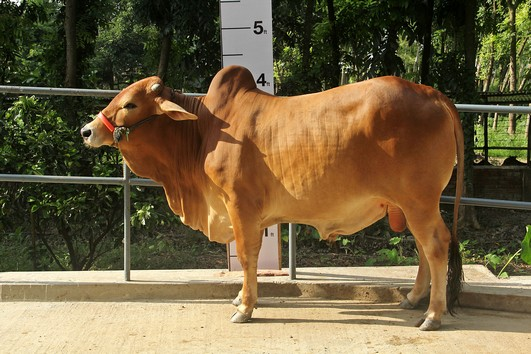cow: (72, 58, 469, 333)
